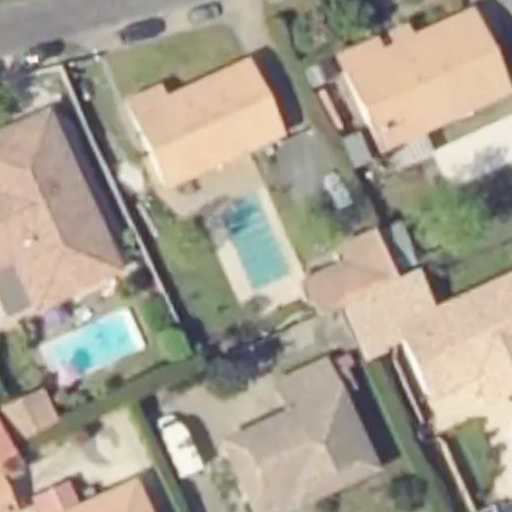pool: (218, 209, 289, 273)
